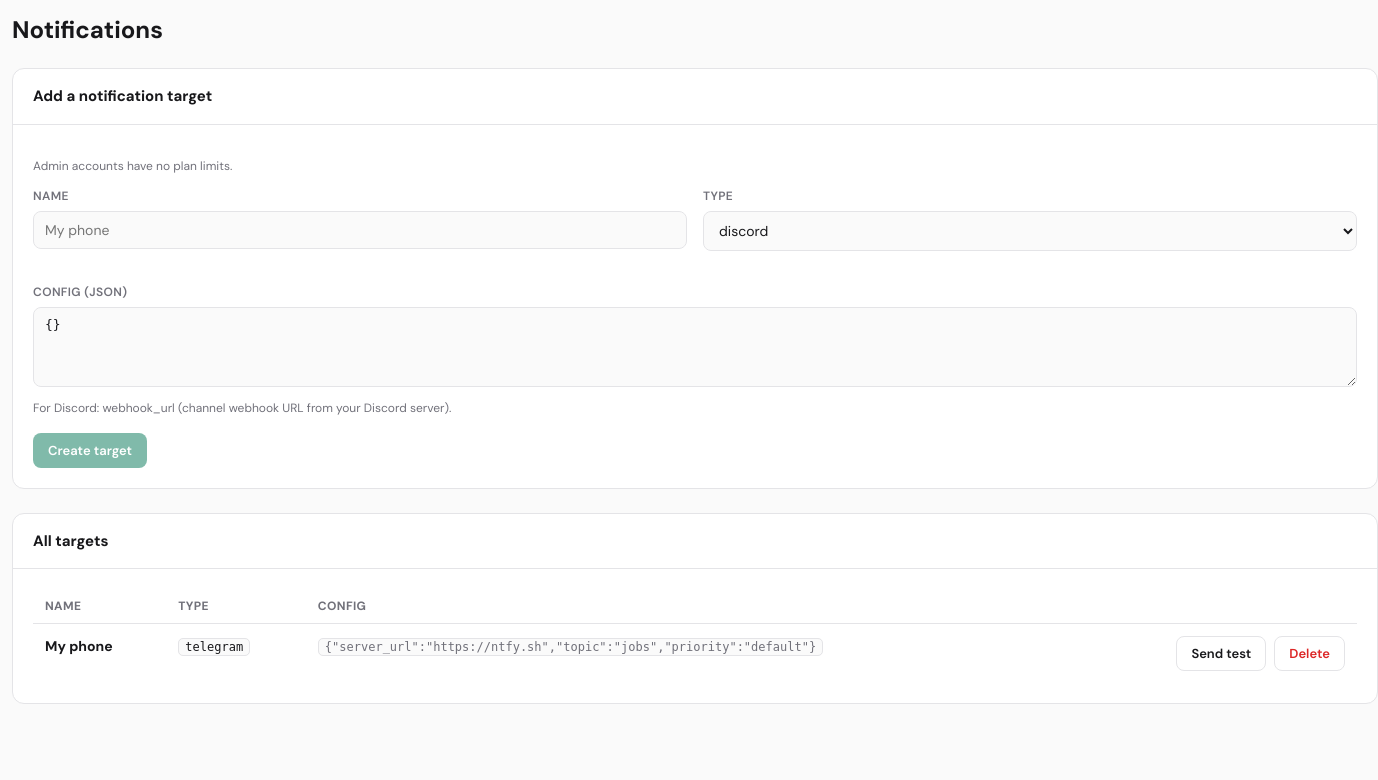
TargetsPage branch coverage › shows the telegram-specific success notice on a sent test
Check: the text "My phone" is shown, box [45,637,113,655]
Click the button "Send test".
click(1221, 654)  # box [1176,636,1266,671]
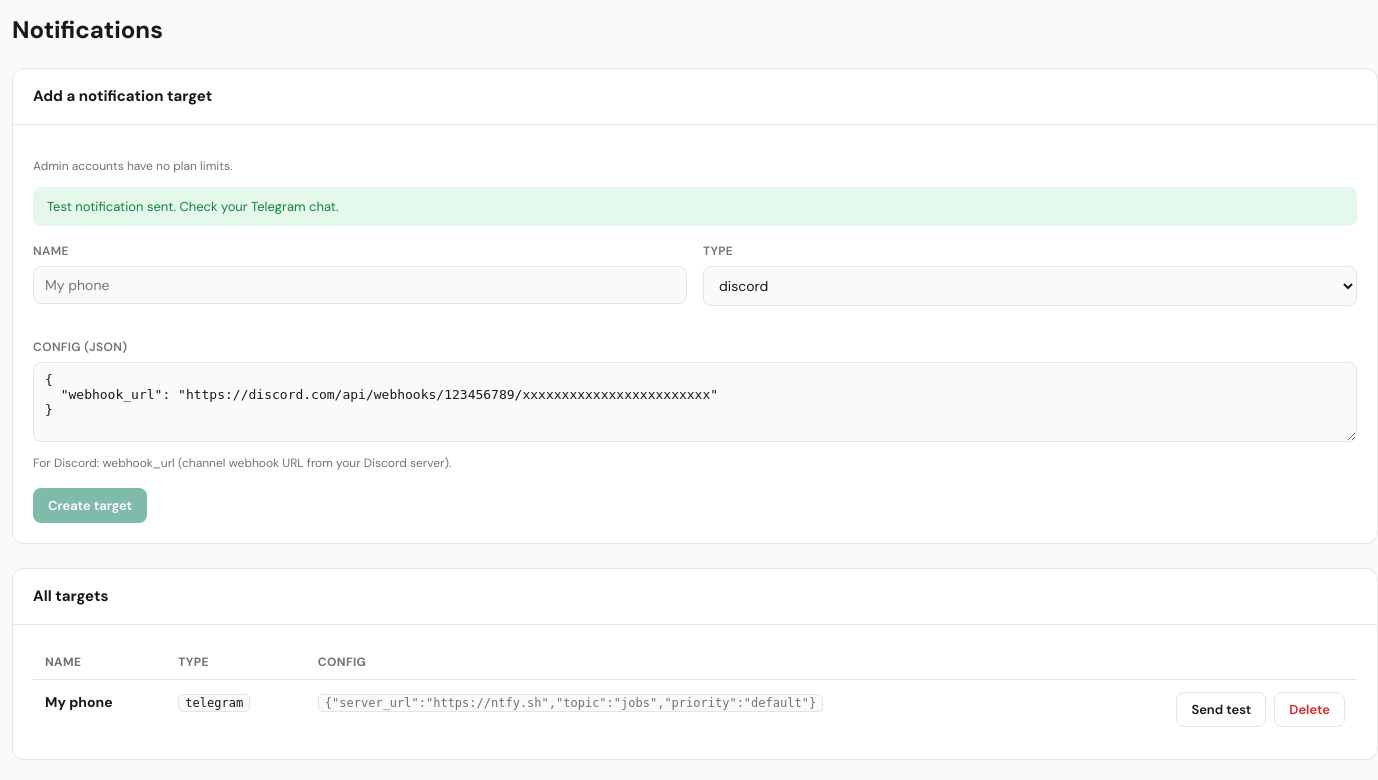
Check: the text "Test notification sent. Check your Telegram chat." is shown, box [33,186,1357,226]
